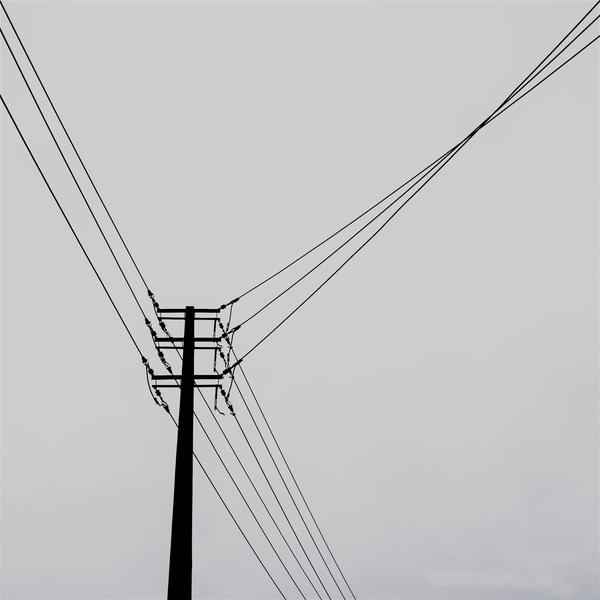utility_pole: (136, 283, 247, 422)
